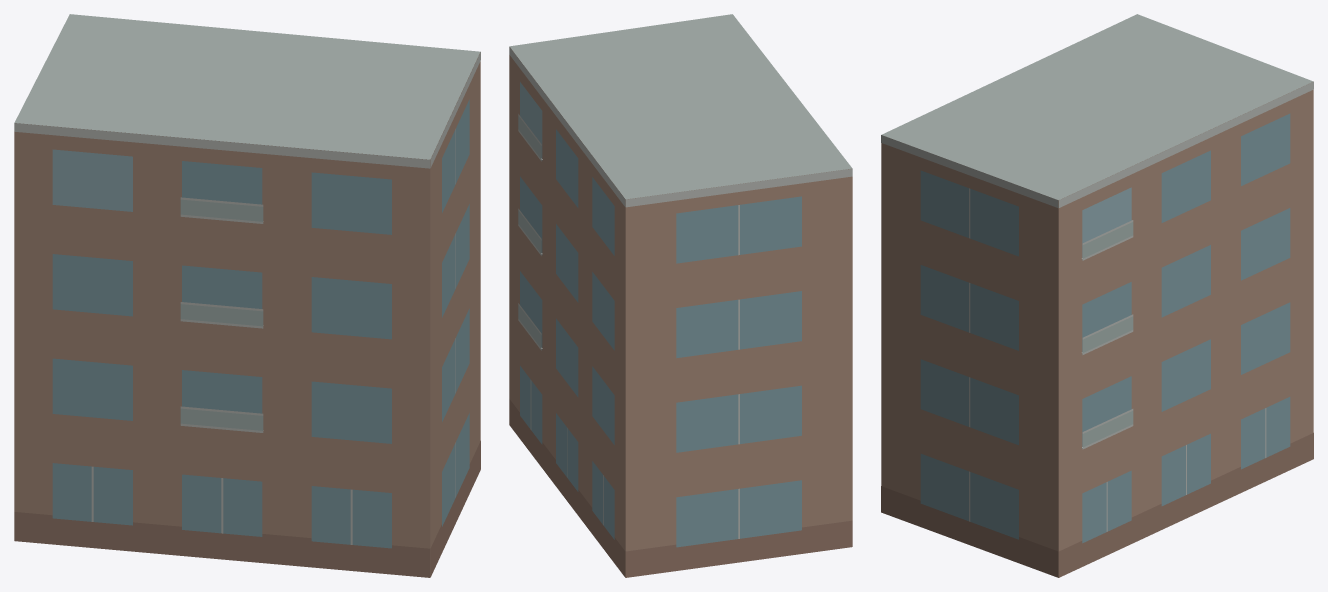
File: survey-upis-32529021.glb
3 views of the same model, side by side, from view 1: azimuth 30°, elevation 25°; view 2: azimuth 150°, elevation 25°; view 3: azimuth 270°, elevation 25° (orthographic). The views are drawn at different scales.
Visible parts, largest first — view 1: survey-upis-32529021.tmp; view 2: survey-upis-32529021.tmp; view 3: survey-upis-32529021.tmp.
Boxes of the visible parts, box(x1,y1,x2,y2) form: survey-upis-32529021.tmp: box(14, 14, 480, 577); survey-upis-32529021.tmp: box(509, 14, 852, 577); survey-upis-32529021.tmp: box(881, 14, 1313, 577).
Size of the model in its own units: 12.18 by 11.5 by 11.95.
